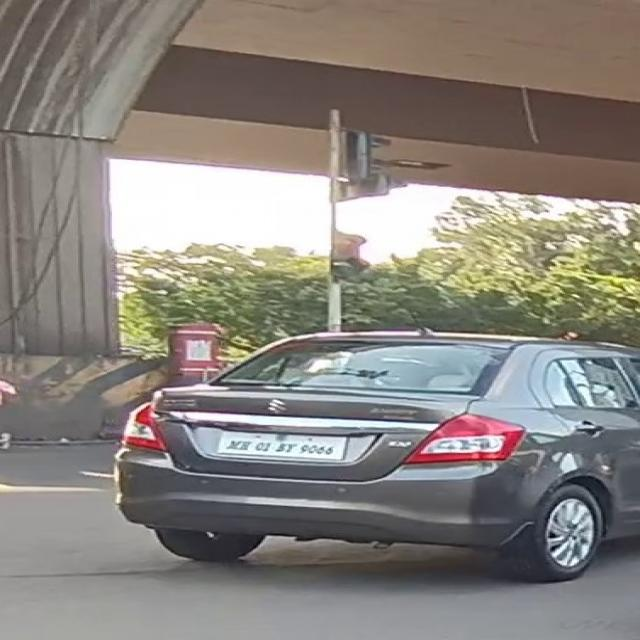Plate: (217, 430, 347, 461)
